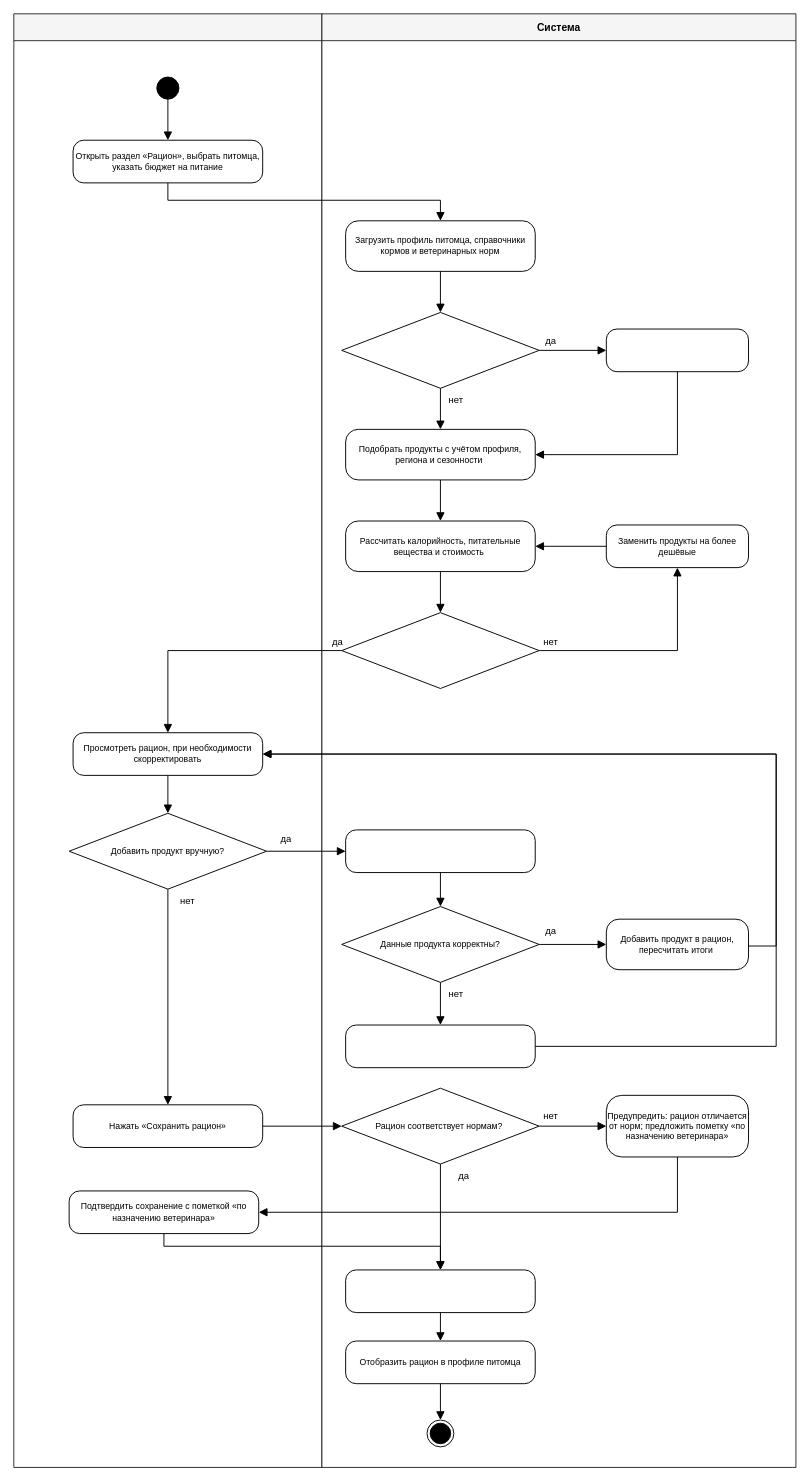
This 810x1481 diagram has some shape labels left out. The box of each missing label's shape, as (x1, y1, x2, y2) in pixels:
Владелец питомца: (13, 13, 322, 1467)
Есть аллергии или питомец на лечении?: (341, 312, 539, 388)
Исключить опасные продукты: (605, 328, 749, 372)
Показать ошибку, продукт не сохранять: (345, 1024, 535, 1068)
Проверить данные продукта (калорийность, состав, цена): (345, 829, 535, 873)
Сохранить рацион в профиле питомца: (345, 1269, 535, 1313)
Стоимость в пределах бюджета?: (341, 612, 539, 689)
